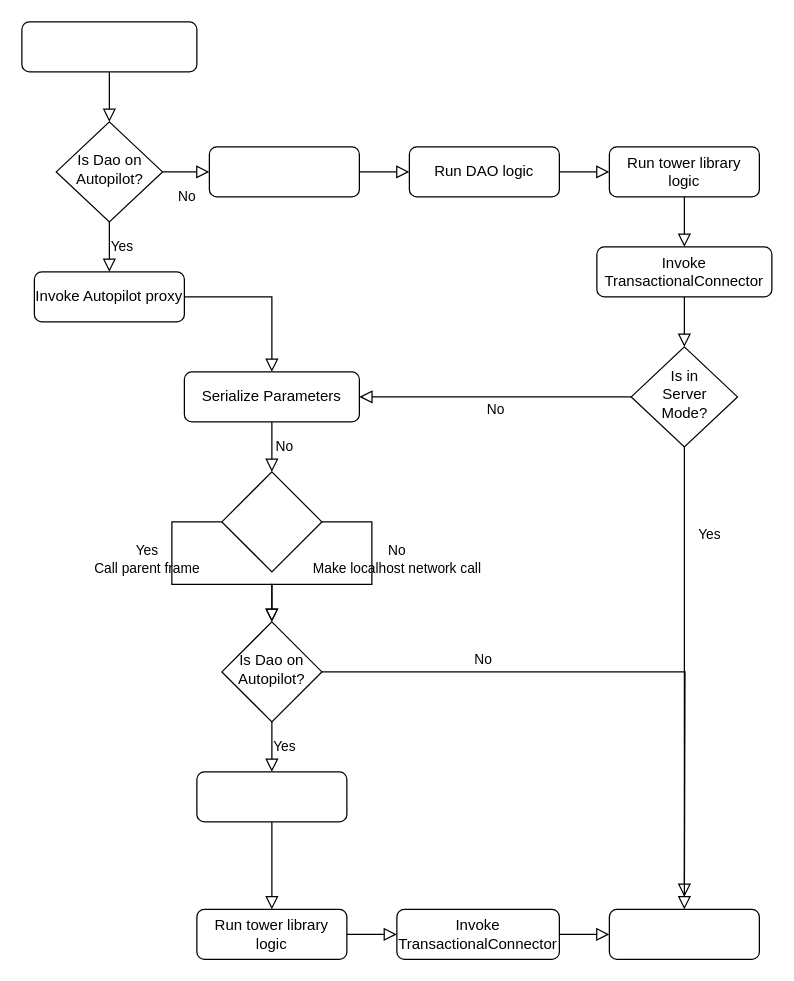
Some shapes in this 794 by 981 pixel diagram are drawn without their labels. The shapes that lost their labels are listed below. From the top down, each one's centre as x and y in pixels, then its label:
[109,46]: IOC.getSync(MY_DAO) .method(a, b, c)
[283,171]: Load Dao Object
[271,521]: In Browser Mode?
[271,796]: Invoke DaoReceiver
[683,933]: Invoke TransactionalServer
